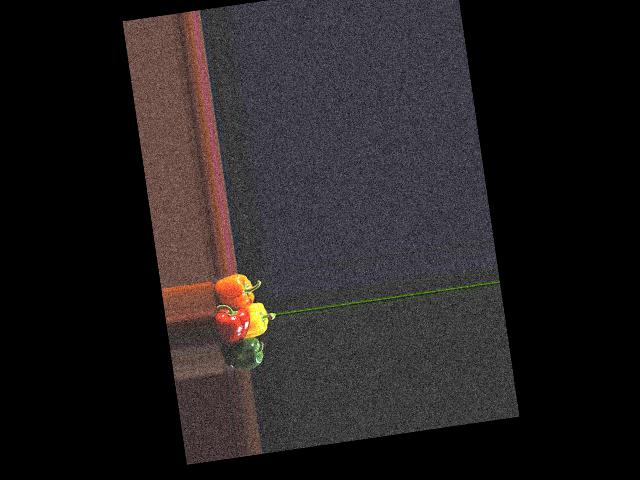bell_pepper: (207, 271, 260, 312)
